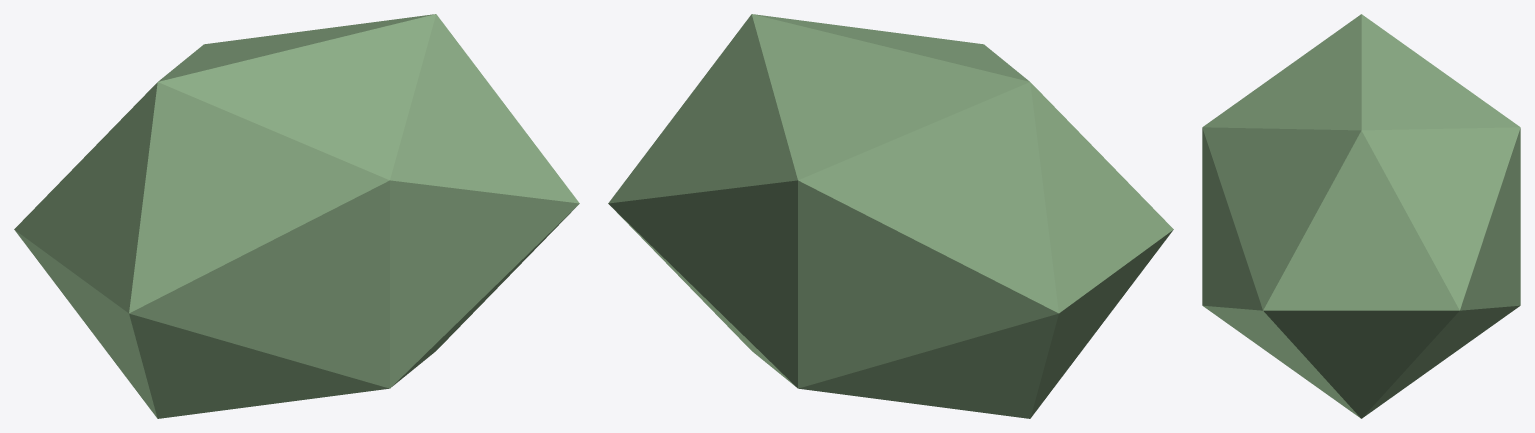
The model's file is bush-0.glb.
The picture shows the model from 3 angles, left to right: view 1: azimuth 30°, elevation 25°; view 2: azimuth 150°, elevation 25°; view 3: azimuth 270°, elevation 25°; orthographic projection. The views are drawn at different scales.
Parts seen in each view (by area): view 1: BushMesh; view 2: BushMesh; view 3: BushMesh.
Part boxes in pixels (x1=…): BushMesh: x1=14, y1=14, x2=579, y2=418; BushMesh: x1=608, y1=14, x2=1173, y2=418; BushMesh: x1=1202, y1=14, x2=1520, y2=418.
Bounding box in the file's own units: 1.43 × 1.02 × 1.02.
Materials: 1 (1 with a texture image).
